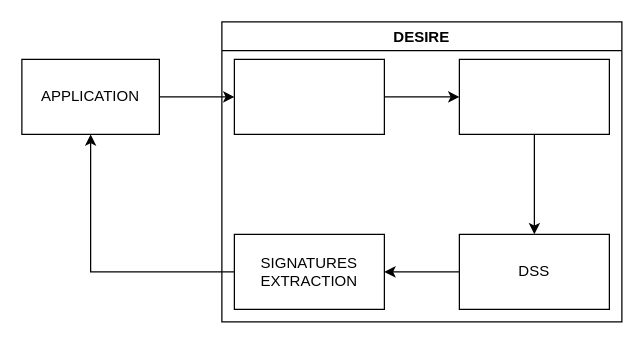
Some shapes in this 644 by 344 pixel diagram are drawn without their labels. The shapes that lost their labels are listed below. From the top down, each one's centre as x and y in pixels, then its label:
At (308,96): "INPUT".
At (533,96): "STORAGE".
